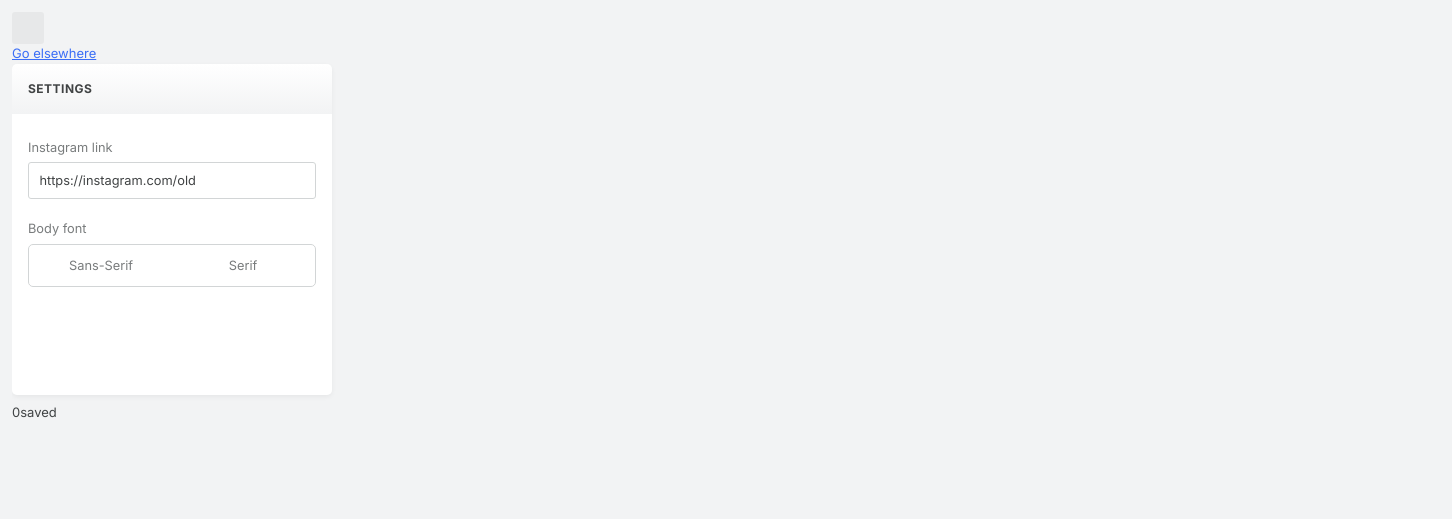
SiteSettingsPage › a value the site rejects is shown on its own field, and the change stays for fixing
The image size is (1452, 519).
Step 1. Replace the text in the field labelled "Instagram link" with "nope" → (172, 181), box [28, 162, 316, 200]
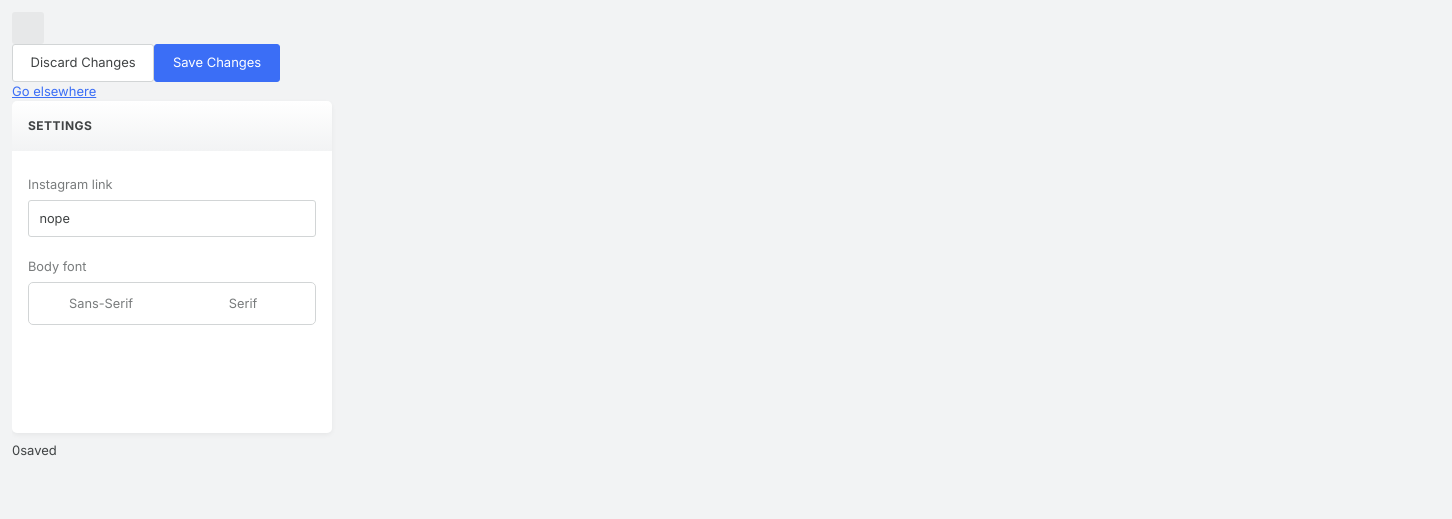
Step 2. Click the button "Save Changes" → click(217, 63), box [154, 44, 280, 82]
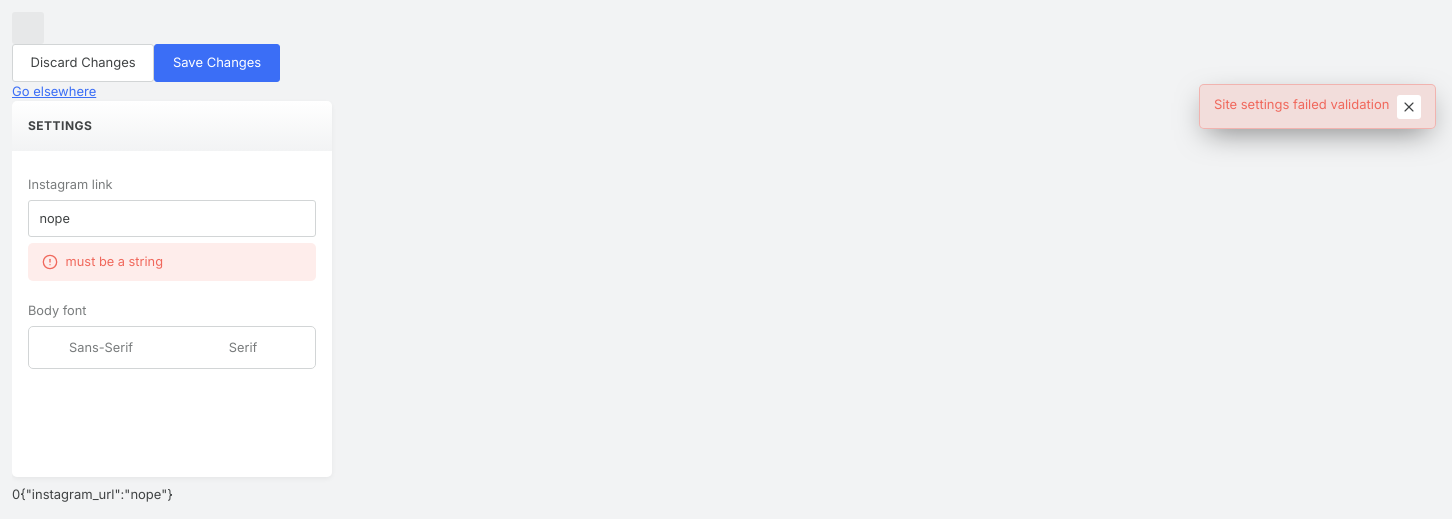
Expected: the button "Save Changes" is shown, [154, 44, 280, 82]
Expected: the text "must be a string" is shown, [28, 243, 316, 281]
